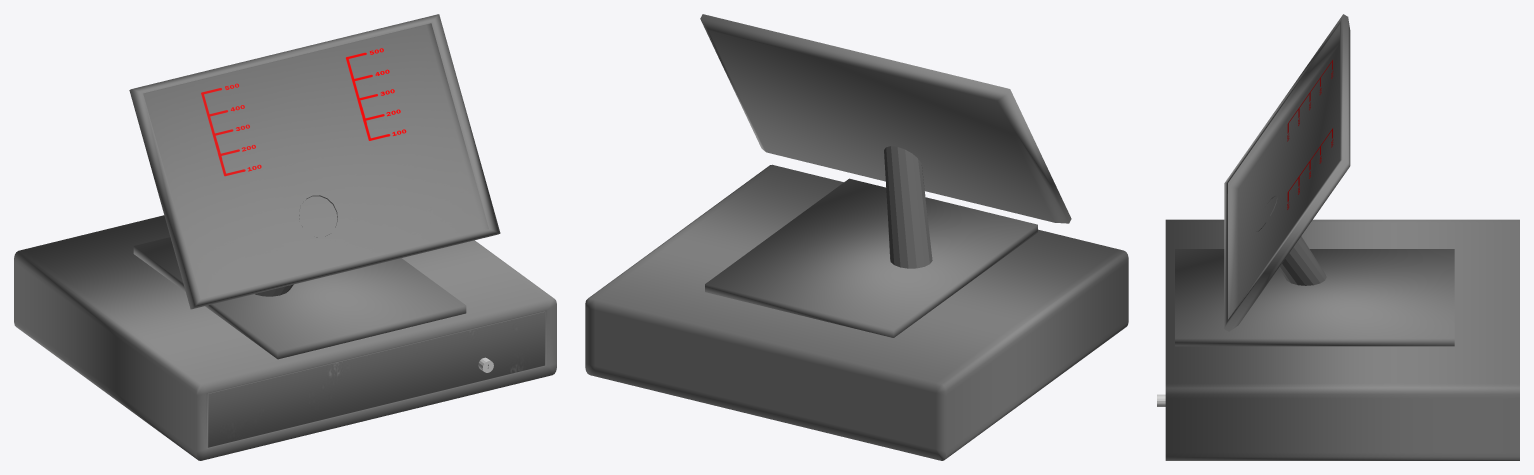
File: CashRegisterV1.glb
The picture shows the model from 3 angles, left to right: view 1: azimuth 30°, elevation 25°; view 2: azimuth 150°, elevation 25°; view 3: azimuth 270°, elevation 25°; orthographic projection. The views are drawn at different scales.
Visible parts, largest first — view 1: Plane.033, Plane.031, Plane.032; view 2: Plane.031, Plane.033, Plane.032; view 3: Plane.031, Plane.032, Plane.033.
Part boxes in pixels (left/top/right/bottom): Plane.033: left=129, top=14, right=500, bottom=309; Plane.031: left=14, top=215, right=556, bottom=460; Plane.032: left=133, top=195, right=466, bottom=359; Plane.031: left=585, top=164, right=1128, bottom=460; Plane.033: left=700, top=14, right=1071, bottom=223; Plane.032: left=705, top=146, right=1037, bottom=337; Plane.031: left=1165, top=219, right=1519, bottom=460; Plane.032: left=1175, top=195, right=1454, bottom=346; Plane.033: left=1224, top=14, right=1350, bottom=331.
Size of the model in its own units: 0.4 by 0.3255 by 0.3592.
5 materials, 3 textured.
